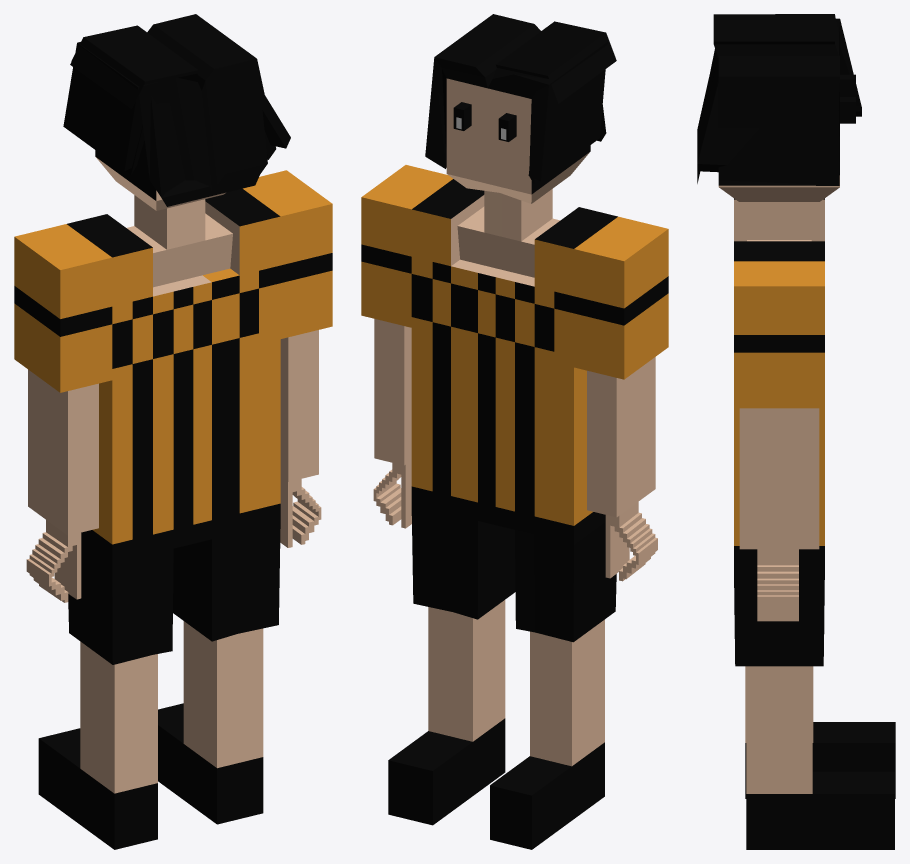
The model's file is Pokemon_Lakshya.glb.
3 renders of one model, left to right at view 1: azimuth 30°, elevation 25°; view 2: azimuth 150°, elevation 25°; view 3: azimuth 270°, elevation 25°, orthographic. The views are drawn at different scales.
Visible parts, largest first — view 1: Pokemon_Lakshya; view 2: Pokemon_Lakshya; view 3: Pokemon_Lakshya.
Part boxes in pixels (x1,y1,x2,y2): Pokemon_Lakshya: [14, 14, 332, 849]; Pokemon_Lakshya: [361, 14, 668, 849]; Pokemon_Lakshya: [697, 14, 895, 849].
Size of the model in its own units: 3.2 by 8.67 by 2.02.
